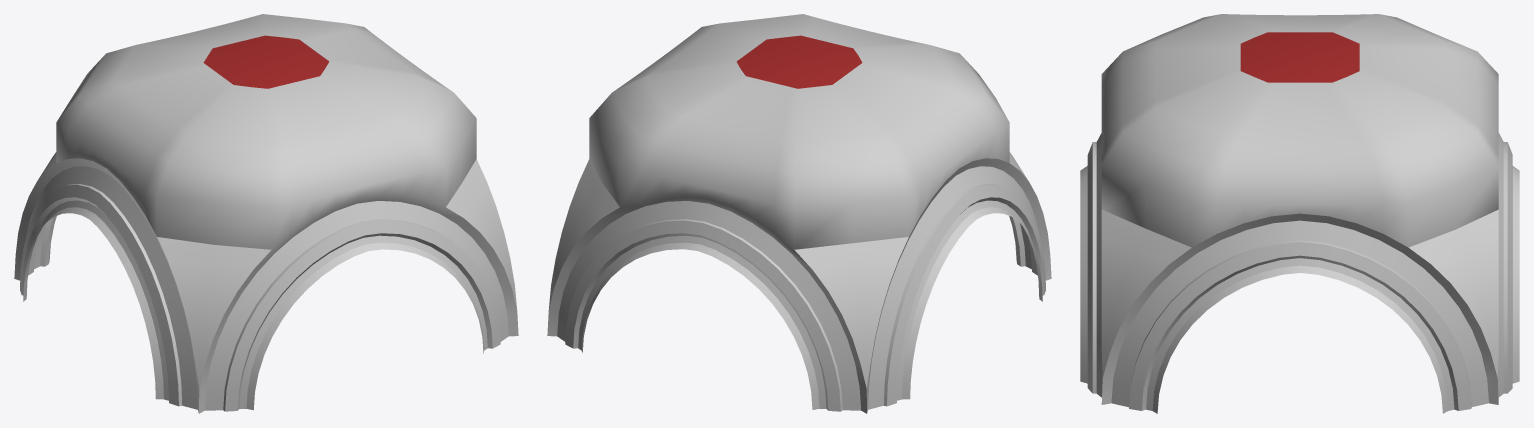
Rendered from Arch_Ceiling.FBX.
The picture shows the model from 3 angles, left to right: view 1: azimuth 30°, elevation 25°; view 2: azimuth 150°, elevation 25°; view 3: azimuth 270°, elevation 25°; orthographic projection. The views are drawn at different scales.
Parts seen in each view (by area): view 1: Arch_Ceiling; view 2: Arch_Ceiling; view 3: Arch_Ceiling.
Part boxes in pixels (x1,y1,x2,y2): Arch_Ceiling: [14, 14, 518, 413]; Arch_Ceiling: [547, 14, 1051, 413]; Arch_Ceiling: [1080, 14, 1519, 413].
Bounding box in the file's own units: 6 × 3.98 × 6.
